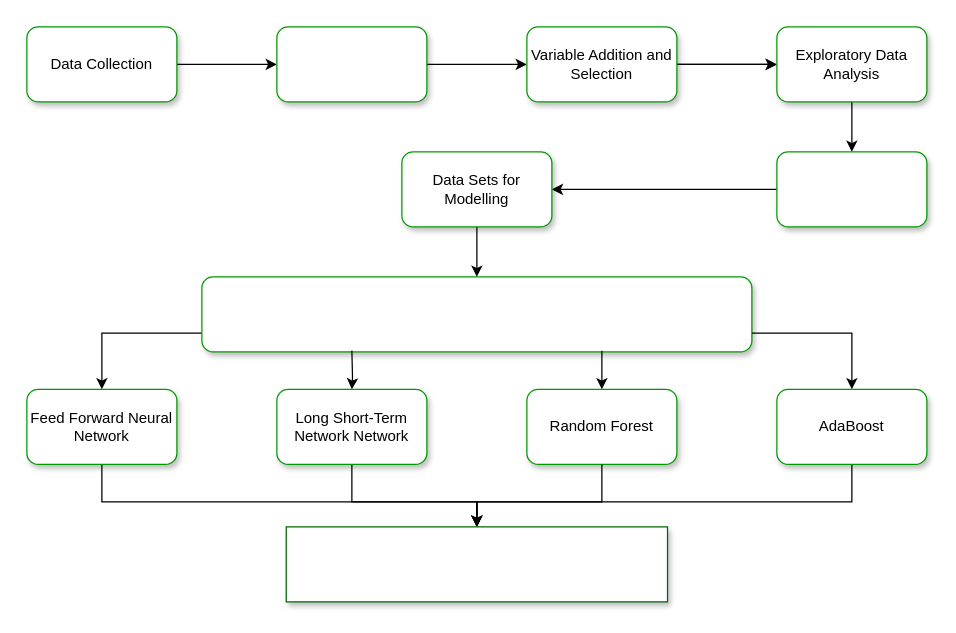
Image size: 956x633. Some labels were removed from this diagram. The centre of each missing label's shape, as x and y in pixels:
"Data Cleaning" goes at point (352, 66).
"Data Preprocessing" goes at point (852, 191).
"Model Implementation" goes at point (477, 316).
"Performance Assessment and Benchmark" goes at point (477, 566).
